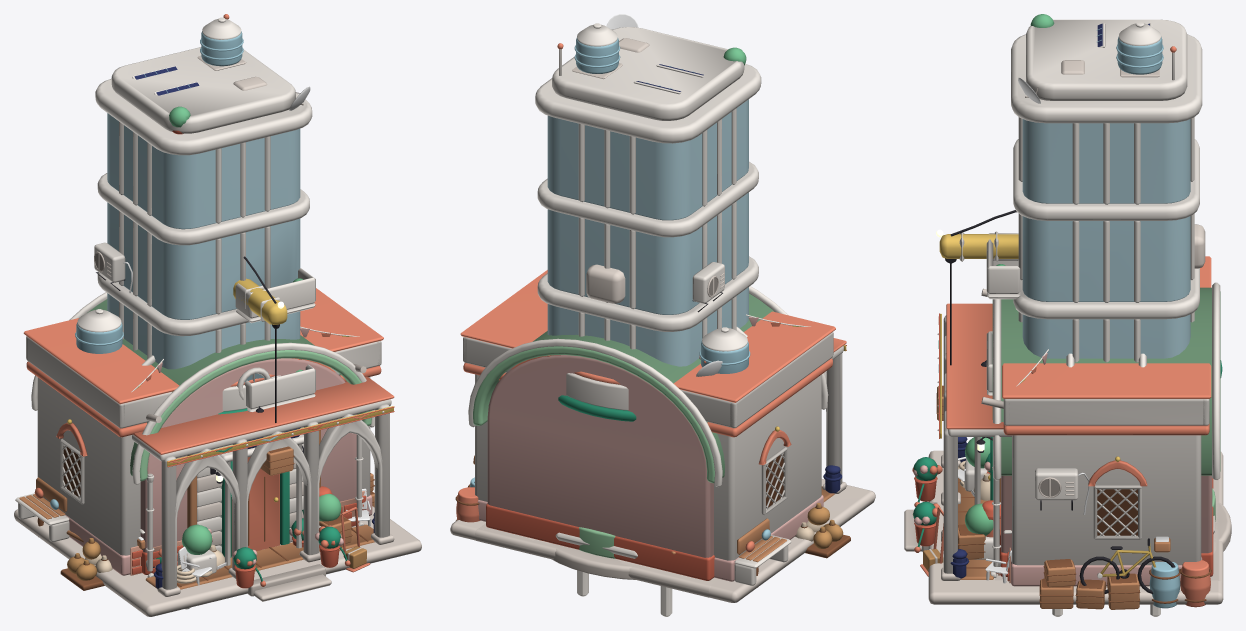
Rendered from buildings.glb.
The picture shows the model from 3 angles, left to right: view 1: azimuth 30°, elevation 25°; view 2: azimuth 150°, elevation 25°; view 3: azimuth 270°, elevation 25°; orthographic projection. The views are drawn at different scales.
Parts seen in each view (by area): view 1: glass_tower_body, school_body, warehouse_body, door (×2), post_office_body, arm; view 2: glass_tower_body, warehouse_body, school_body, post_office_body, arm, pier_body; view 3: glass_tower_body, school_body, warehouse_body, arm, post_office_body.
Part boxes in pixels (x1,y1,x2,y2): glass_tower_body: (94, 14, 341, 575); school_body: (14, 288, 421, 616); warehouse_body: (31, 292, 374, 590); door (×2): (197, 427, 303, 556); post_office_body: (209, 374, 332, 569); arm: (233, 256, 294, 475); glass_tower_body: (526, 14, 761, 571); warehouse_body: (455, 286, 850, 597); school_body: (450, 270, 875, 602); post_office_body: (549, 371, 675, 579); arm: (586, 264, 625, 303); pier_body: (577, 570, 672, 616); glass_tower_body: (964, 14, 1216, 559); school_body: (904, 256, 1223, 604); warehouse_body: (920, 282, 1223, 609); arm: (936, 210, 1205, 420); post_office_body: (971, 360, 1231, 551).
Bounding box in the file's own units: 6.83 × 11.68 × 5.89.
